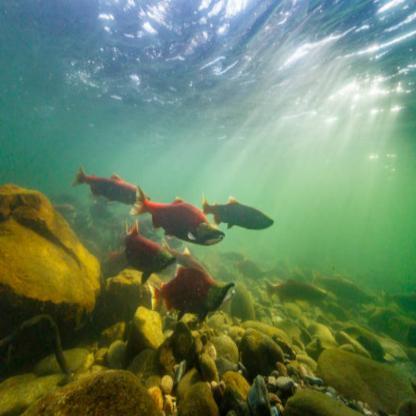sockeye: (134, 186, 227, 248), (150, 256, 232, 318), (104, 221, 179, 276), (78, 164, 140, 214), (200, 195, 282, 221)
